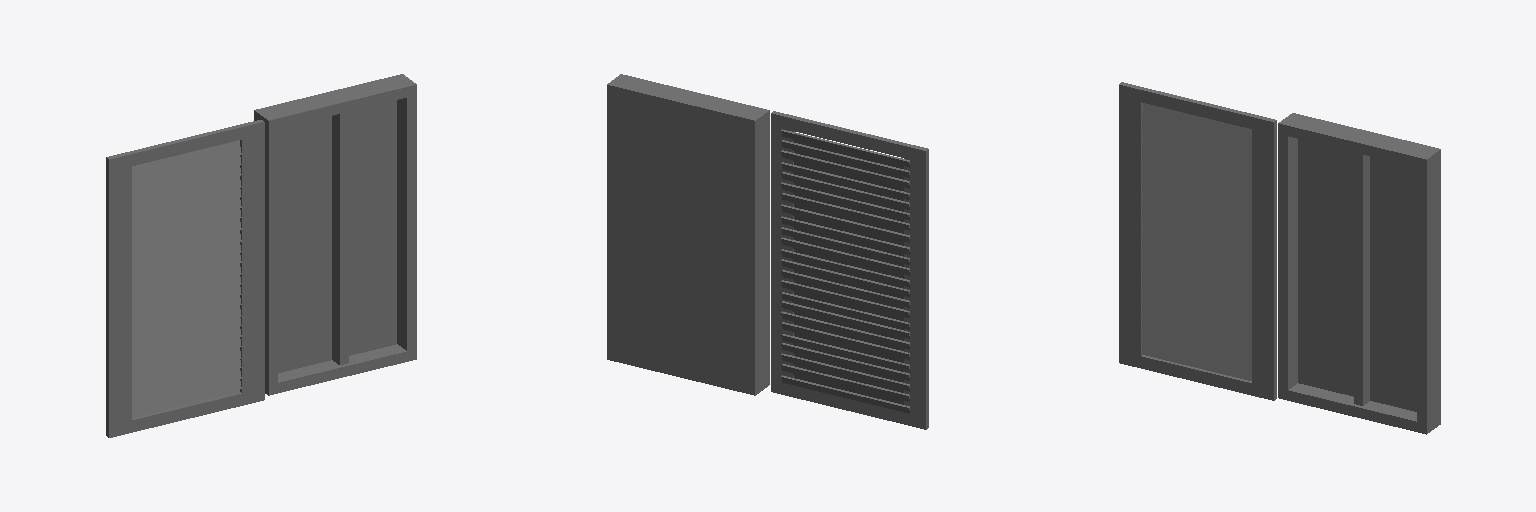
Rendered from window2.obj.
3 views of the same model, side by side, from view 1: azimuth 30°, elevation 25°; view 2: azimuth 150°, elevation 25°; view 3: azimuth 330°, elevation 25° (orthographic).
Parts seen in each view (by area): view 1: polySurface74; view 2: polySurface74; view 3: polySurface74.
Part boxes in pixels (x1,y1,x2,y2): polySurface74: (106, 74, 416, 437); polySurface74: (607, 74, 928, 429); polySurface74: (1119, 82, 1440, 434).
Bounding box in the file's own units: 0.5414 × 0.4682 × 0.0447.